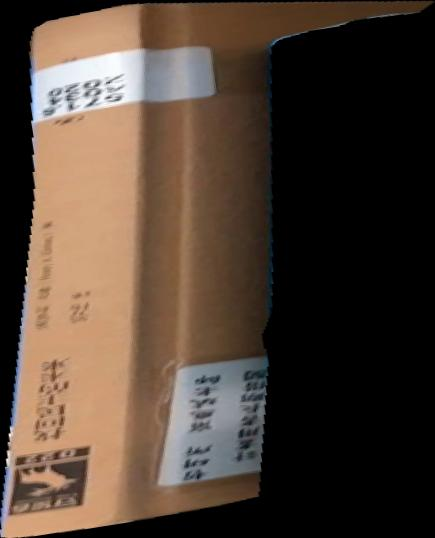reverse: (1, 1, 435, 538)
